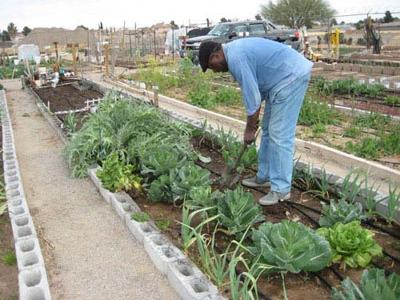person: (196, 36, 317, 206)
